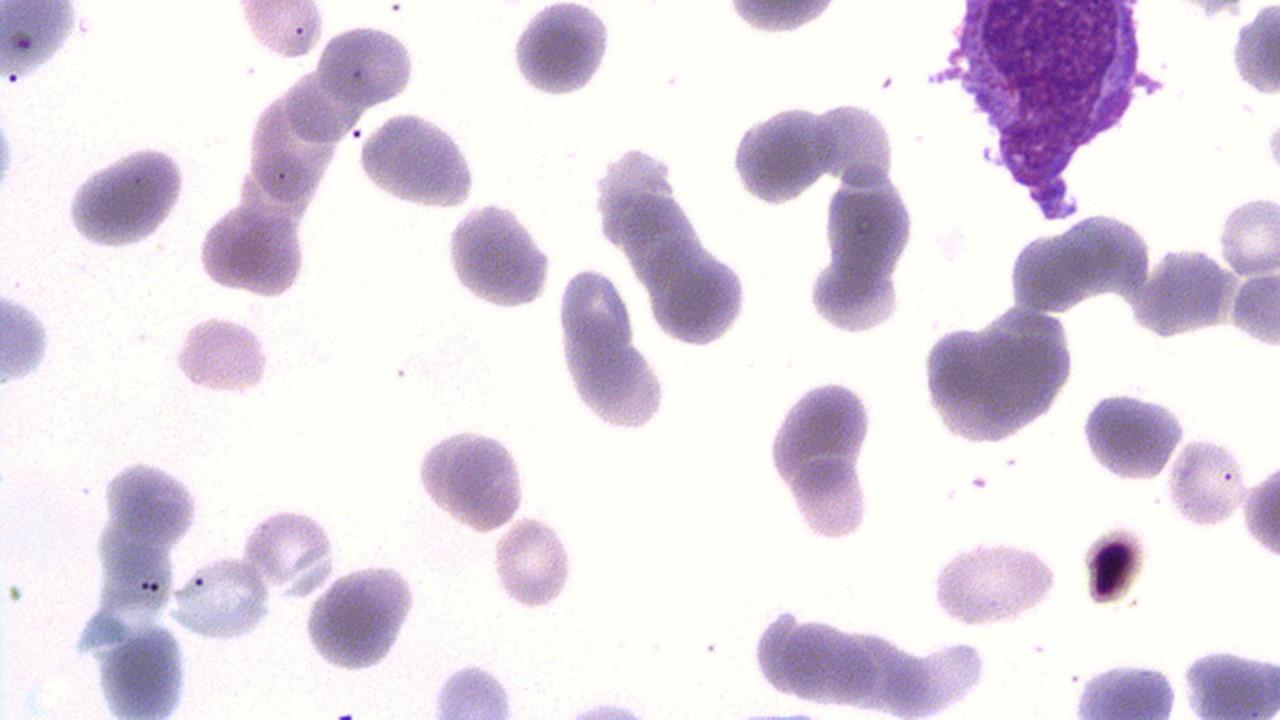Platelets: (62, 140, 190, 253), (99, 454, 203, 550), (169, 311, 274, 399), (489, 518, 580, 614), (802, 258, 904, 337), (1164, 434, 1248, 529), (789, 454, 875, 544), (1079, 524, 1147, 608), (426, 660, 521, 718), (1, 288, 55, 388), (1228, 3, 1280, 101), (1240, 458, 1280, 562), (559, 692, 654, 718), (0, 109, 18, 201), (1260, 115, 1280, 179), (924, 67, 960, 86), (966, 472, 990, 491), (331, 710, 356, 720)
RBC: (820, 164, 920, 285), (244, 84, 342, 203), (194, 201, 306, 301), (164, 550, 274, 645), (239, 500, 338, 595), (490, 512, 577, 616), (314, 20, 418, 106), (1164, 429, 1248, 533), (804, 252, 901, 338), (814, 95, 898, 191), (1006, 227, 1090, 316), (792, 456, 872, 544), (1068, 657, 1182, 716), (1217, 192, 1280, 286), (234, 1, 327, 64), (1239, 459, 1279, 562)
WBC: (0, 22, 583, 720), (929, 0, 1171, 222), (916, 302, 1080, 448), (554, 258, 676, 436), (762, 369, 880, 504), (64, 136, 193, 252), (300, 558, 422, 676), (412, 420, 534, 535), (353, 105, 483, 211), (925, 534, 1064, 632), (441, 198, 556, 313), (725, 99, 836, 207), (822, 164, 918, 284), (194, 202, 311, 298), (506, 0, 615, 102), (1079, 385, 1189, 486), (165, 549, 274, 645), (314, 18, 422, 108), (790, 454, 874, 543), (1, 0, 88, 84), (1068, 656, 1184, 716), (1228, 3, 1280, 99), (715, 1, 847, 35)
